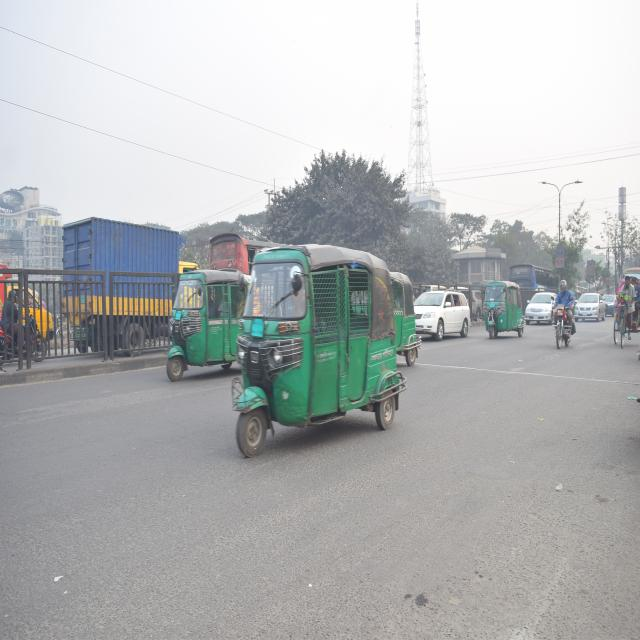bus: (208, 230, 238, 243)
car: (416, 286, 478, 345), (524, 269, 556, 340), (574, 292, 604, 323)
motorbike: (5, 281, 45, 371), (548, 278, 576, 349)
truck: (63, 223, 188, 331)
